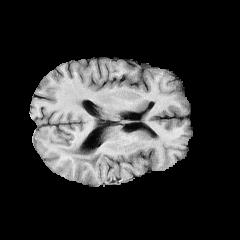glioma: (58, 140, 104, 171)
